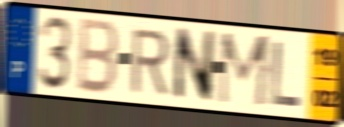3: (37, 14, 74, 92)
B: (74, 15, 121, 98)
L: (269, 39, 304, 110)
M: (216, 30, 274, 111)
N: (171, 25, 218, 105)
R: (129, 27, 172, 96)
